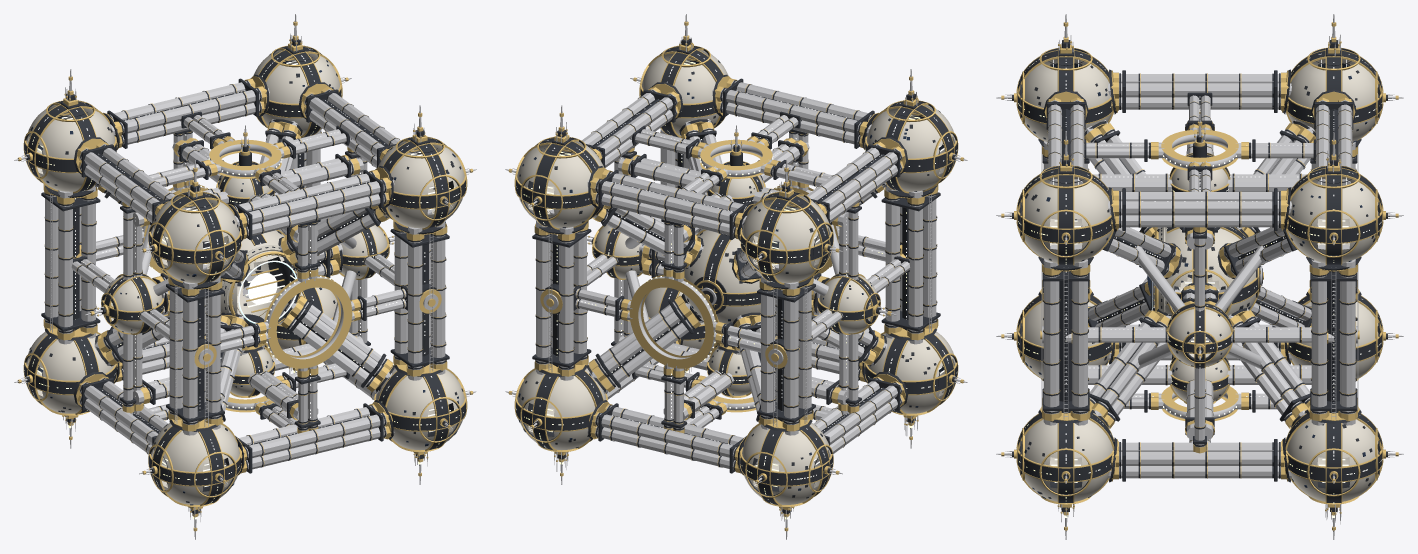
The picture shows the model from 3 angles, left to right: view 1: azimuth 30°, elevation 25°; view 2: azimuth 150°, elevation 25°; view 3: azimuth 270°, elevation 25°; orthographic projection. The views are drawn at different scales.
Visible parts, largest first — view 1: DC_frame, DC_spheres, DC_antennas; view 2: DC_frame, DC_spheres, DC_antennas; view 3: DC_frame, DC_spheres, DC_antennas.
Boxes of the visible parts, x1,y1,x2,y2 form: DC_frame: (41,74,449,475); DC_spheres: (23,45,467,506); DC_antennas: (14,14,476,539); DC_frame: (532,74,940,475); DC_spheres: (514,45,958,506); DC_antennas: (505,14,967,539); DC_frame: (1038,69,1361,482); DC_spheres: (1016,47,1383,504); DC_antennas: (996,14,1403,539).
Size of the model in its own units: 1874 by 2016 by 1824.
